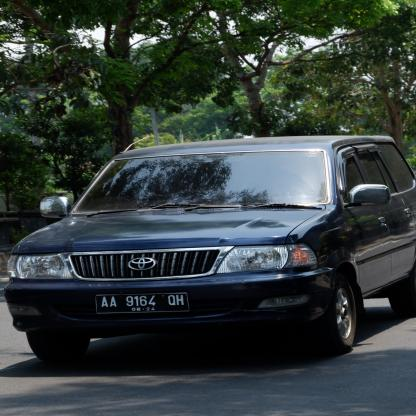Plat-Nomor: (91, 291, 195, 315)
